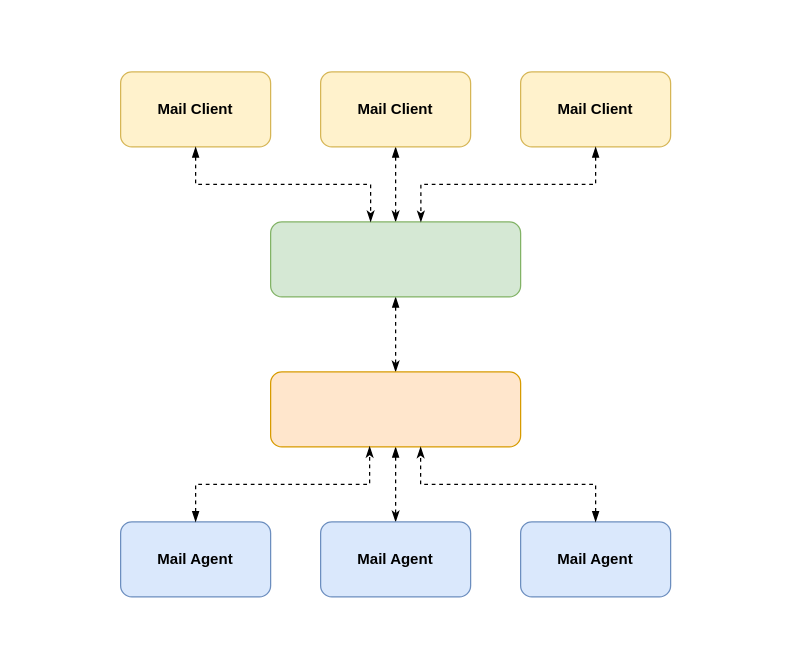
Some shapes in this 793 by 668 pixel diagram are drawn without their labels. The box of each missing label's shape, as (x1, y1, x2, y2) in pixels:
Mail Server: (269, 221, 521, 297)
RabbitMQ: (269, 371, 521, 447)
